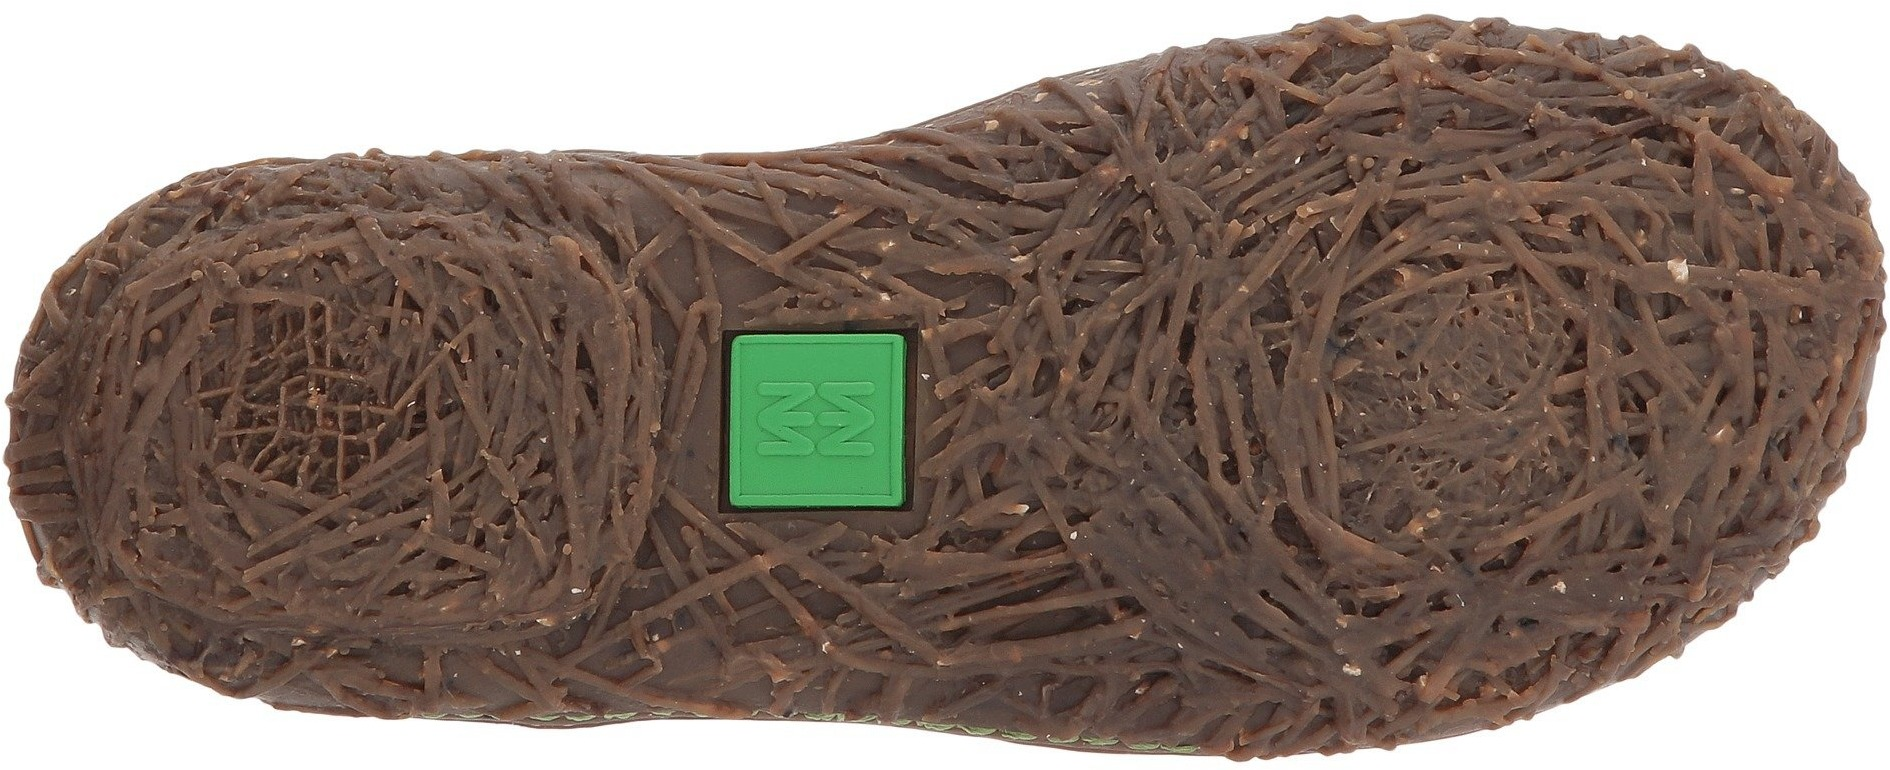line: (997, 34, 1700, 730), (188, 166, 706, 716), (1510, 118, 1868, 442), (25, 333, 230, 530), (834, 515, 1021, 695), (810, 161, 991, 335)
quad: (704, 308, 918, 527)
text: (704, 308, 918, 527), (749, 362, 882, 476)
